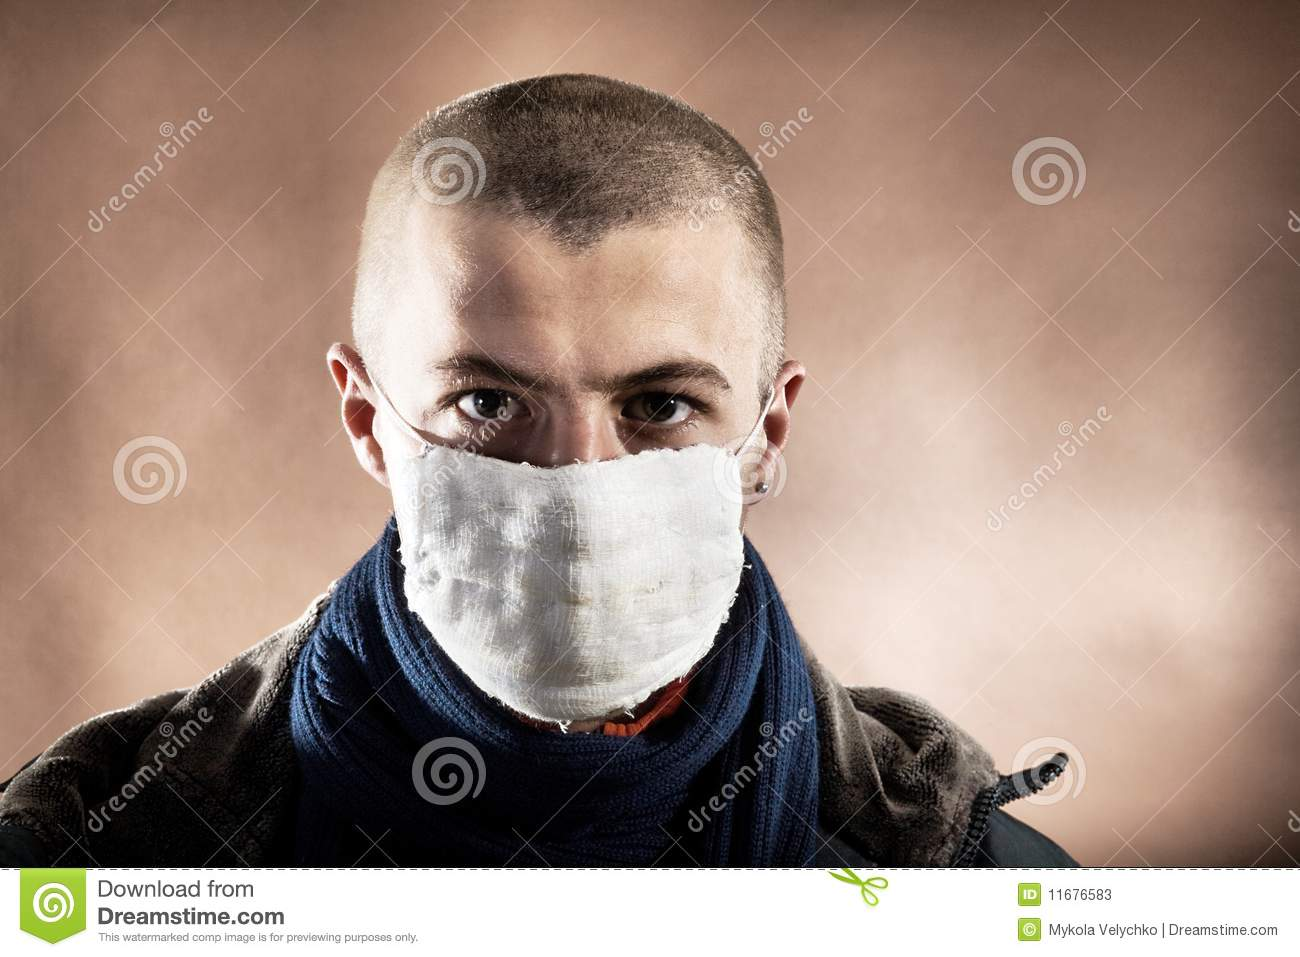mask: (398, 438, 745, 722)
